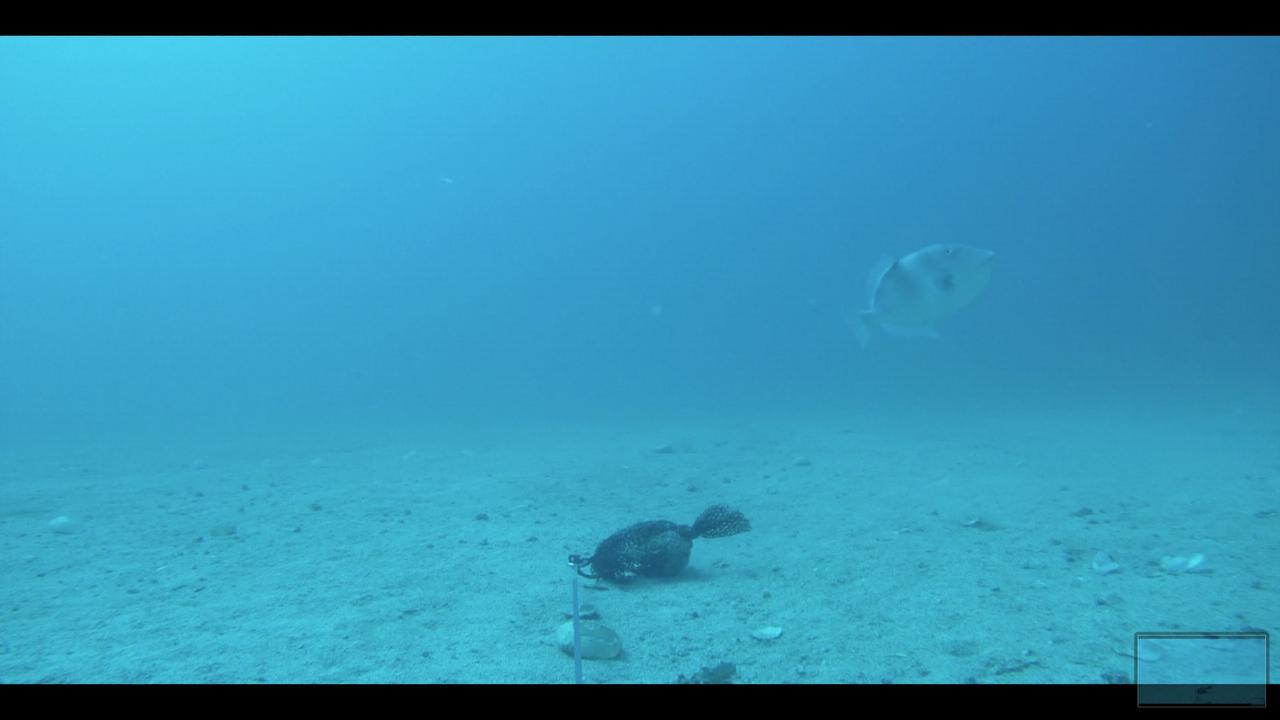balistes: (825, 236, 996, 358)
